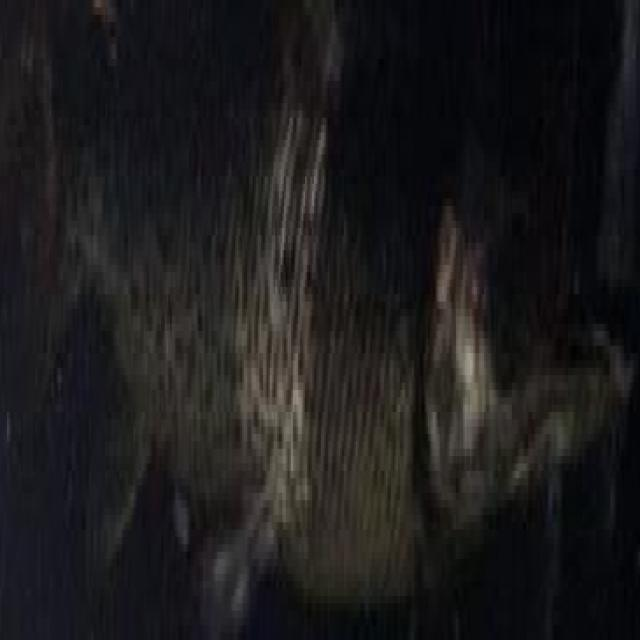fish: (2, 7, 640, 640)
